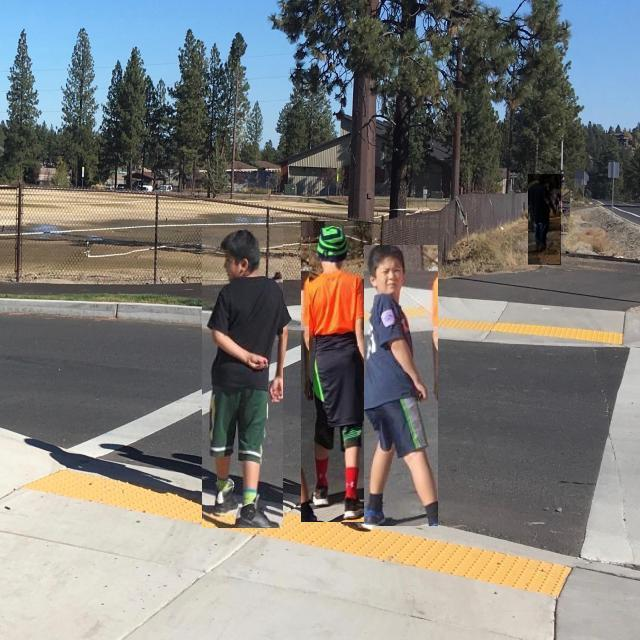without scooter: (202, 228, 283, 528), (302, 222, 372, 522), (364, 245, 438, 526), (529, 175, 562, 266)
